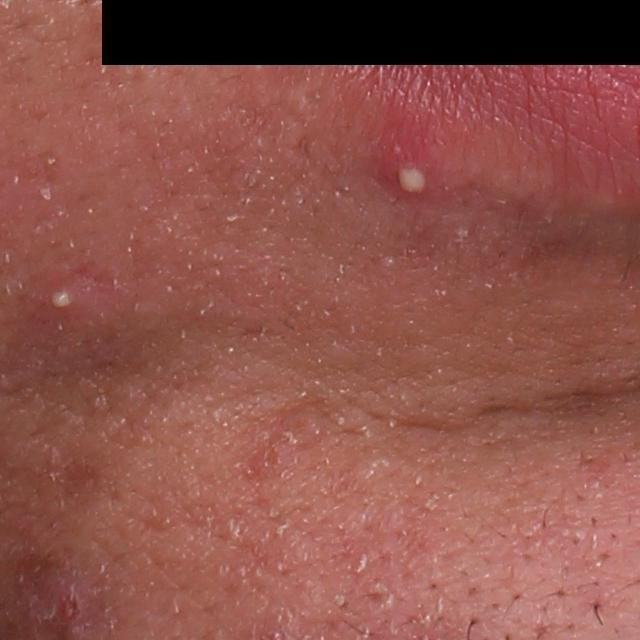pustule: (383, 131, 448, 200), (44, 281, 89, 313)
